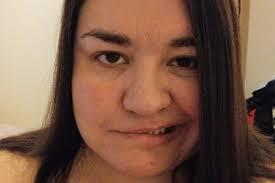strokeMouthMid: (93, 114, 199, 148)
